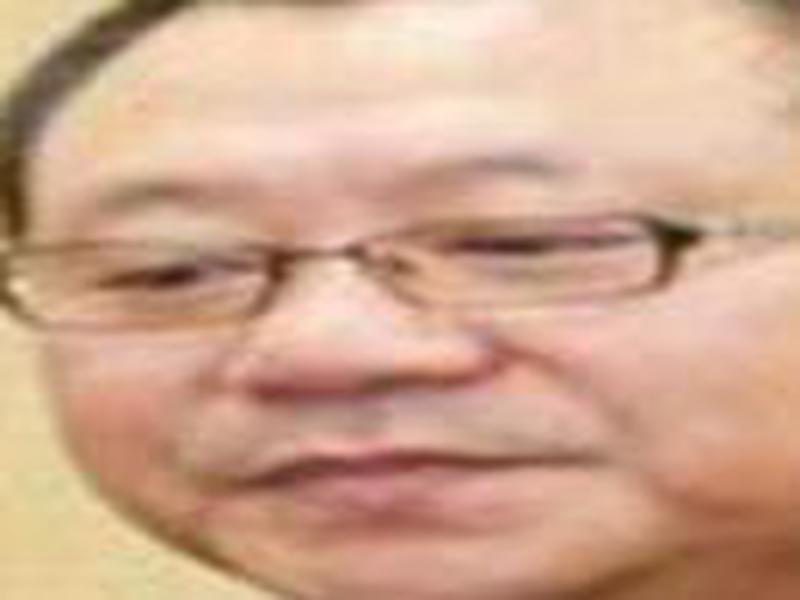without_mask: (14, 1, 800, 587)
